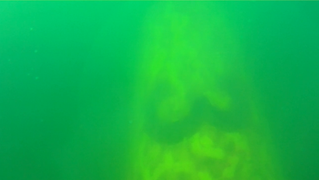3: (143, 73, 252, 146)
pipe: (131, 1, 283, 179)
